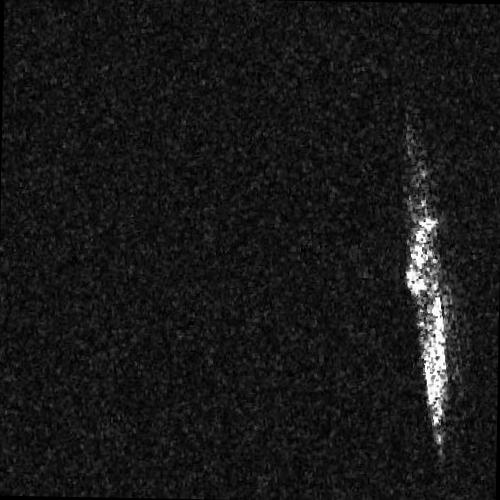ship: (399, 149, 449, 457)
